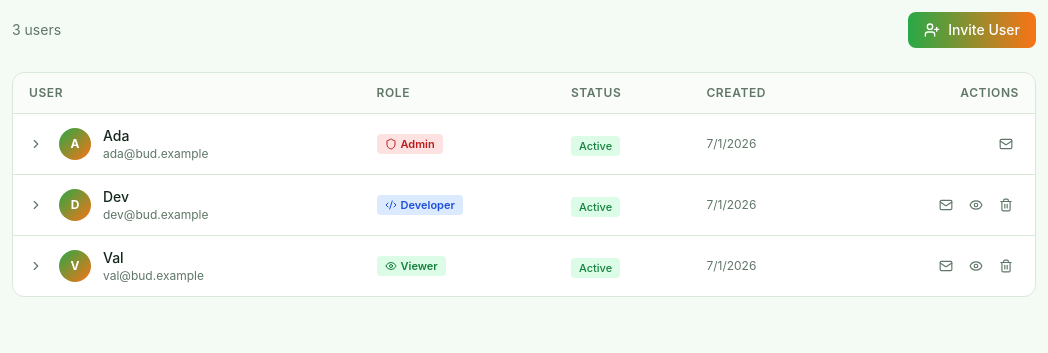
groups under each user › shows an alert when the groups cannot load and retries
This screenshot has width=1048, height=353.
Check: the text "Dev" is shown, box [103,188,129,205]
Click the button named "Show groups of Dev": (36, 205) [25,194,47,216]
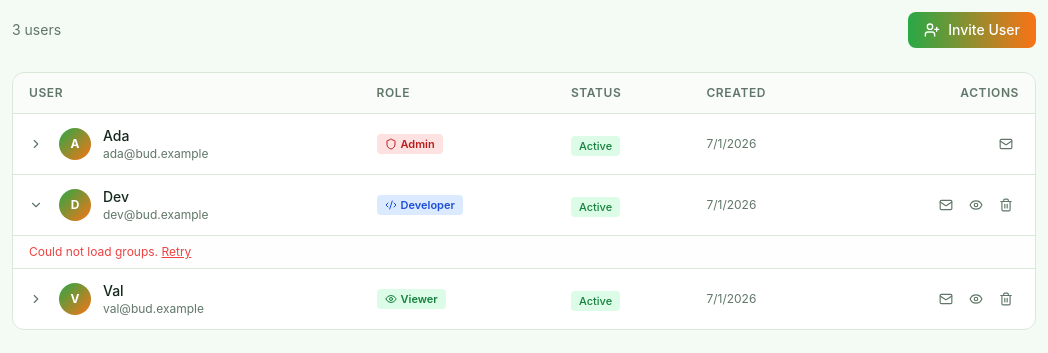
Check: the message shows "Could not load groups.", box [29,244,158,259]
Click the button "Retry": (176, 252) [161,244,191,260]
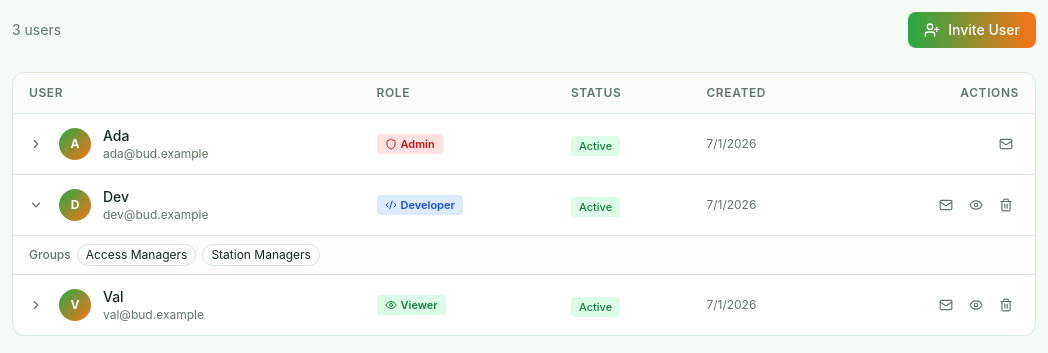
Check: the text "Access Managers" is shown, box [77,244,196,266]
